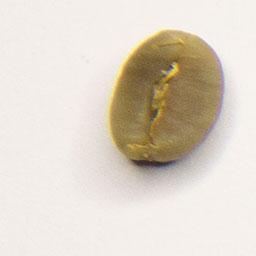premium: (103, 26, 228, 167)
